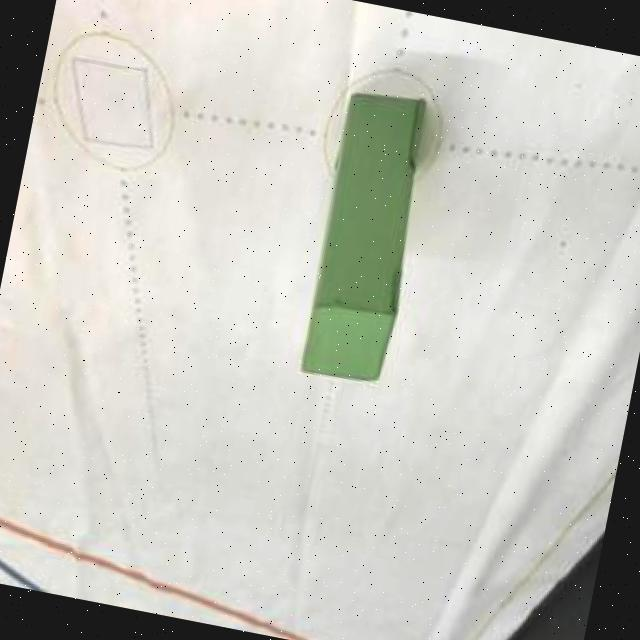greenbox: (296, 84, 438, 390)
